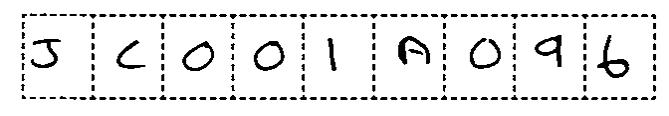0: (178, 33, 220, 78), (246, 35, 291, 73), (462, 35, 506, 72)
1: (320, 33, 349, 73)
6: (590, 30, 636, 84)
9: (529, 28, 568, 73)
A: (389, 32, 436, 74)
C: (108, 39, 151, 74)
J: (26, 34, 65, 74)
